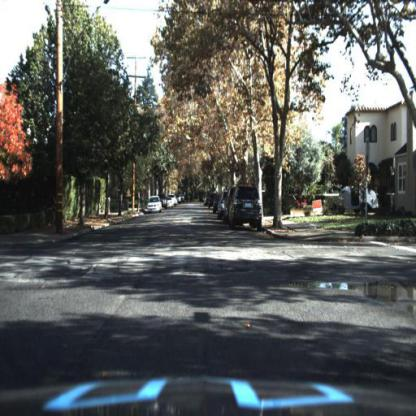car: (231, 180, 264, 233), (338, 180, 382, 216), (145, 194, 163, 214), (148, 195, 163, 216), (166, 199, 175, 213)
